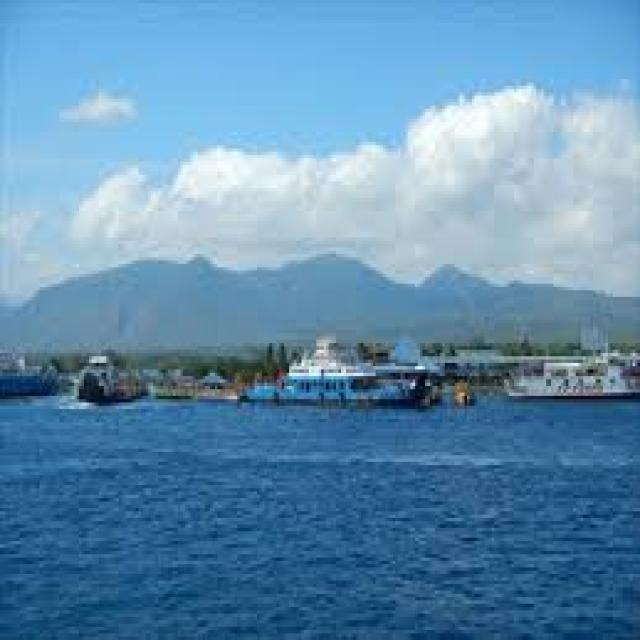passenger ship: (266, 334, 438, 418)
